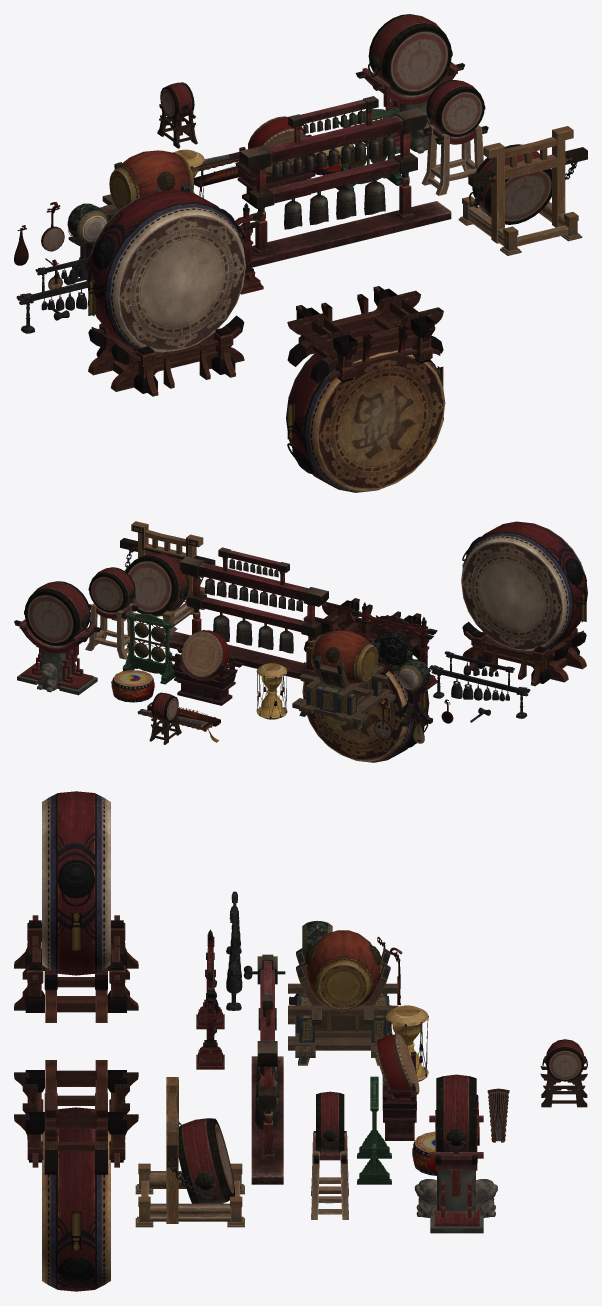
File: yueqi.FBX
3 views of the same model, one above another, from view 1: azimuth 30°, elevation 25°; view 2: azimuth 150°, elevation 25°; view 3: azimuth 270°, elevation 25° (orthographic). The views are drawn at different scales.
Parts seen in each view (by area): view 1: leitaidagu, dagu, bianzhongmucai, bianzhongda, gudaishitou, qianmujiazi4, gu5, nidaye, gugugu, gu3, qianmujiazi1, gujiazi00 (+9 smaller); view 2: dagu, leitaidagu, gu5, bianzhongda, bianzhongmucai, gudaishitou, gu3, nidaye, luojiazi, gujiazi00, longluo, qianmujiazi4 (+15 smaller); view 3: dagu, leitaidagu, gu5, gudaishitou, nidaye, gu3, gujiazi00, bianzhongmucai, bianzhongda, qianmujiazi4, longluo, qianmujiazi1 (+10 smaller).
Part boxes in pixels (x1=…): leitaidagu: x1=286, y1=286, x2=445, y2=492; dagu: x1=86, y1=190, x2=245, y2=396; bianzhongmucai: x1=251, y1=99, x2=451, y2=267; bianzhongda: x1=239, y1=96, x2=427, y2=253; gudaishitou: x1=363, y1=14, x2=452, y2=153; qianmujiazi4: x1=463, y1=126, x2=587, y2=250; gu5: x1=100, y1=150, x2=194, y2=221; nidaye: x1=469, y1=144, x2=551, y2=224; gugugu: x1=426, y1=80, x2=485, y2=136; gu3: x1=228, y1=116, x2=316, y2=207; qianmujiazi1: x1=421, y1=125, x2=483, y2=195; gujiazi00: x1=355, y1=54, x2=464, y2=153; dagu: x1=461, y1=521, x2=587, y2=686; leitaidagu: x1=302, y1=598, x2=429, y2=762; gu5: x1=292, y1=630, x2=395, y2=729; bianzhongda: x1=179, y1=547, x2=328, y2=673; bianzhongmucai: x1=160, y1=550, x2=318, y2=679; gudaishitou: x1=17, y1=581, x2=97, y2=695; gu3: x1=166, y1=630, x2=243, y2=705; nidaye: x1=125, y1=553, x2=188, y2=616; luojiazi: x1=122, y1=612, x2=175, y2=684; gujiazi00: x1=14, y1=613, x2=101, y2=692; longluo: x1=354, y1=602, x2=437, y2=689; qianmujiazi4: x1=120, y1=521, x2=215, y2=629; dagu: x1=14, y1=791, x2=138, y2=1022; leitaidagu: x1=14, y1=1060, x2=138, y2=1291; gu5: x1=288, y1=930, x2=398, y2=1065; gudaishitou: x1=430, y1=1074, x2=483, y2=1233; nidaye: x1=178, y1=1118, x2=234, y2=1203; gu3: x1=375, y1=1034, x2=419, y2=1140; gujiazi00: x1=414, y1=1110, x2=497, y2=1217; bianzhongmucai: x1=251, y1=961, x2=283, y2=1184; bianzhongda: x1=254, y1=954, x2=280, y2=1158; qianmujiazi4: x1=139, y1=1077, x2=241, y2=1223; longluo: x1=196, y1=929, x2=224, y2=1069; qianmujiazi1: x1=311, y1=1132, x2=348, y2=1219.
Bounding box in the file's own units: 2629 × 1575 × 2180.
Materials: 26 (26 with a texture image).
